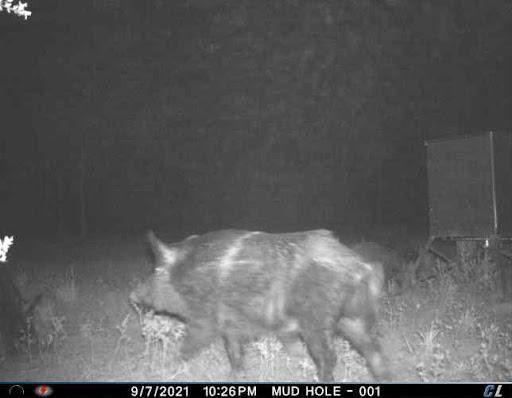Hog: (124, 222, 397, 382)
